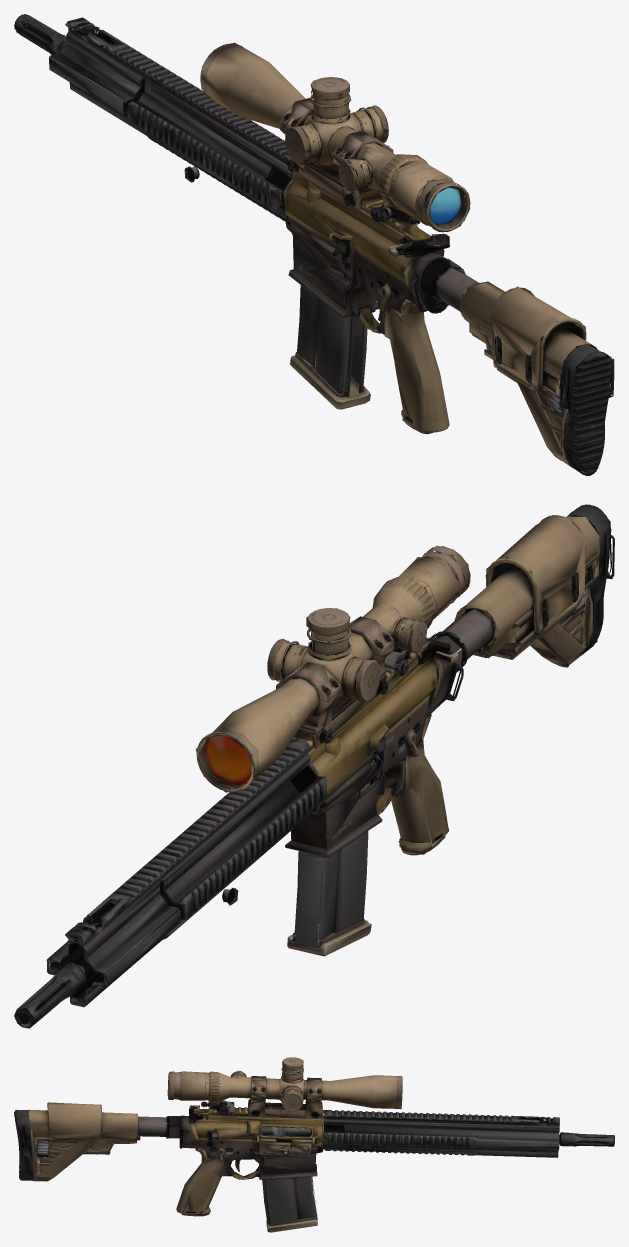
3 renders of one model, top to bottom at view 1: azimuth 30°, elevation 25°; view 2: azimuth 150°, elevation 25°; view 3: azimuth 270°, elevation 25°, orthographic. The views are drawn at different scales.
Visible parts, largest first — view 1: body, mag; view 2: body, mag; view 3: body, mag.
Part boxes in pixels (<box>): body: <box>14,14,614,475</box>; mag: <box>290,228,380,409</box>; body: <box>14,504,614,1028</box>; mag: <box>287,750,393,956</box>; body: <box>14,1057,614,1216</box>; mag: <box>231,1156,317,1232</box>.
Size of the model in its own units: 0.099 by 0.3328 by 1.08.
7 materials, 7 textured.
